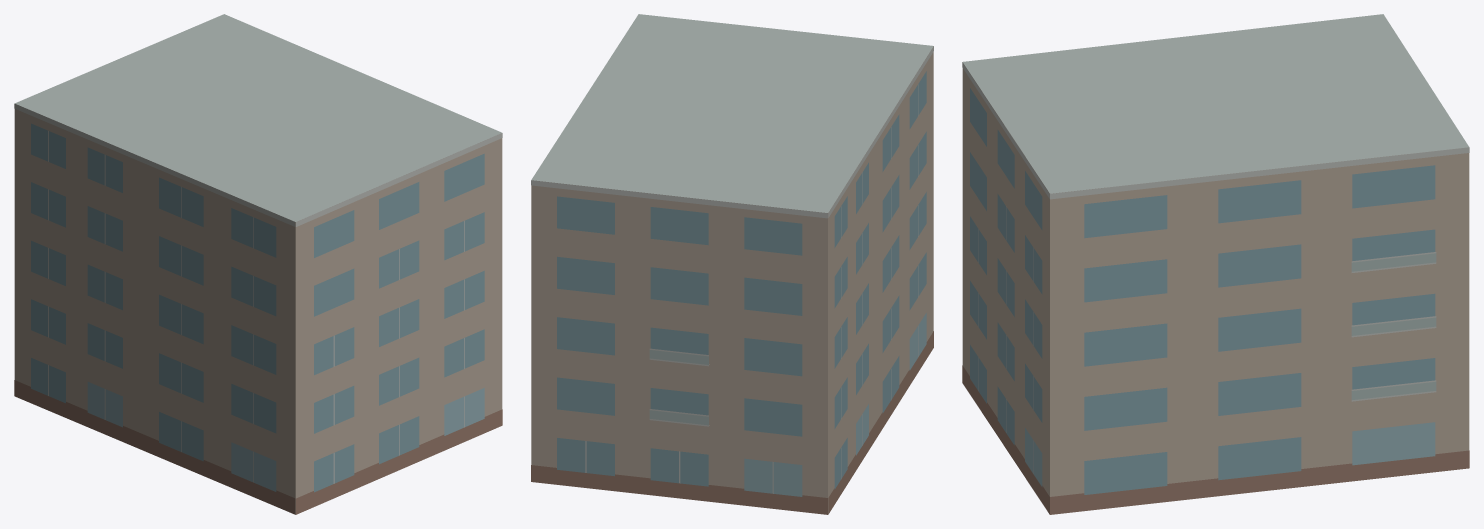
Rendered from survey-upis-32934121.glb.
3 renders of one model, left to right at view 1: azimuth 30°, elevation 25°; view 2: azimuth 150°, elevation 25°; view 3: azimuth 270°, elevation 25°, orthographic. The views are drawn at different scales.
Visible parts, largest first — view 1: survey-upis-32934121.tmp; view 2: survey-upis-32934121.tmp; view 3: survey-upis-32934121.tmp.
Boxes of the visible parts, box(x1,y1,x2,y2) form: survey-upis-32934121.tmp: box(14, 14, 502, 514); survey-upis-32934121.tmp: box(531, 14, 933, 514); survey-upis-32934121.tmp: box(962, 14, 1469, 514).
Bounding box in the file's own units: 16.7 × 13.9 × 19.9.
